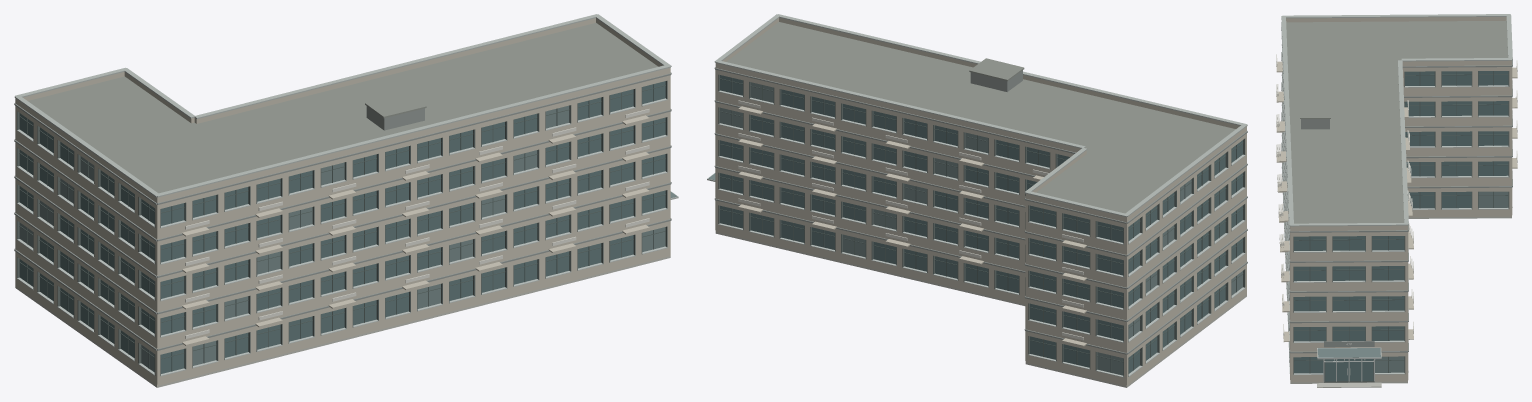
File: mapped_1135310352.glb
3 views of the same model, side by side, from view 1: azimuth 30°, elevation 25°; view 2: azimuth 150°, elevation 25°; view 3: azimuth 270°, elevation 25° (orthographic). The views are drawn at different scales.
Parts seen in each view (by area): view 1: mapped_1135310352_HousingWarm, mapped_1135310352_WindowGlass, mapped_1135310352_FacultyRoof, mapped_1135310352_WindowReveal, mapped_1135310352_WindowAluminium, mapped_1135310352_FacultyDarkPanel, mapped_1135310352_Teaching5TileJoint, mapped_1135310352_WindowRubber, mapped_1135310352_WindowGlassLight, mapped_1135310352_WhiteTrim, mapped_1135310352_EntryStone; view 2: mapped_1135310352_HousingWarm, mapped_1135310352_FacultyRoof, mapped_1135310352_WindowGlass, mapped_1135310352_WindowReveal, mapped_1135310352_FacultyDarkPanel, mapped_1135310352_WindowAluminium, mapped_1135310352_Teaching5TileJoint, mapped_1135310352_WindowRubber, mapped_1135310352_WindowGlassLight, mapped_1135310352_WhiteTrim, mapped_1135310352_EntryStone; view 3: mapped_1135310352_FacultyRoof, mapped_1135310352_HousingWarm, mapped_1135310352_WindowGlass, mapped_1135310352_FacultyDarkPanel, mapped_1135310352_Teaching5TileJoint, mapped_1135310352_WindowAluminium, mapped_1135310352_WindowRubber, mapped_1135310352_WindowGlassLight, mapped_1135310352_WindowReveal, mapped_1135310352_WhiteTrim, mapped_1135310352_EntryStone.
Boxes of the visible parts, <box> form: mapped_1135310352_HousingWarm: <box>15,18,670,385</box>; mapped_1135310352_WindowGlass: <box>19,81,665,373</box>; mapped_1135310352_FacultyRoof: <box>28,23,658,193</box>; mapped_1135310352_WindowReveal: <box>17,80,667,375</box>; mapped_1135310352_WindowAluminium: <box>17,98,678,376</box>; mapped_1135310352_FacultyDarkPanel: <box>14,72,671,350</box>; mapped_1135310352_Teaching5TileJoint: <box>14,14,671,197</box>; mapped_1135310352_WindowRubber: <box>19,84,665,371</box>; mapped_1135310352_WindowGlassLight: <box>19,105,677,372</box>; mapped_1135310352_WhiteTrim: <box>185,109,649,338</box>; mapped_1135310352_EntryStone: <box>15,256,670,387</box>; mapped_1135310352_HousingWarm: <box>715,17,1246,386</box>; mapped_1135310352_FacultyRoof: <box>726,22,1235,213</box>; mapped_1135310352_WindowGlass: <box>720,75,1242,373</box>; mapped_1135310352_WindowReveal: <box>718,74,1245,377</box>; mapped_1135310352_FacultyDarkPanel: <box>714,67,1247,354</box>; mapped_1135310352_WindowAluminium: <box>707,90,1245,377</box>; mapped_1135310352_Teaching5TileJoint: <box>714,14,1247,216</box>; mapped_1135310352_WindowRubber: <box>720,78,1243,372</box>; mapped_1135310352_WindowGlassLight: <box>708,82,1242,375</box>; mapped_1135310352_WhiteTrim: <box>738,100,1083,340</box>; mapped_1135310352_EntryStone: <box>715,232,1246,387</box>; mapped_1135310352_FacultyRoof: <box>1286,20,1508,223</box>; mapped_1135310352_HousingWarm: <box>1276,17,1517,382</box>; mapped_1135310352_WindowGlass: <box>1294,71,1508,381</box>; mapped_1135310352_FacultyDarkPanel: <box>1281,22,1512,353</box>; mapped_1135310352_Teaching5TileJoint: <box>1281,14,1512,226</box>; mapped_1135310352_WindowAluminium: <box>1281,44,1512,381</box>; mapped_1135310352_WindowRubber: <box>1294,71,1508,373</box>; mapped_1135310352_WindowGlassLight: <box>1318,191,1508,372</box>; mapped_1135310352_WindowReveal: <box>1289,71,1509,382</box>; mapped_1135310352_WhiteTrim: <box>1276,54,1517,335</box>; mapped_1135310352_EntryStone: <box>1290,216,1511,387</box>.
Bounding box in the file's own units: 53.79 × 19.28 × 24.83.
